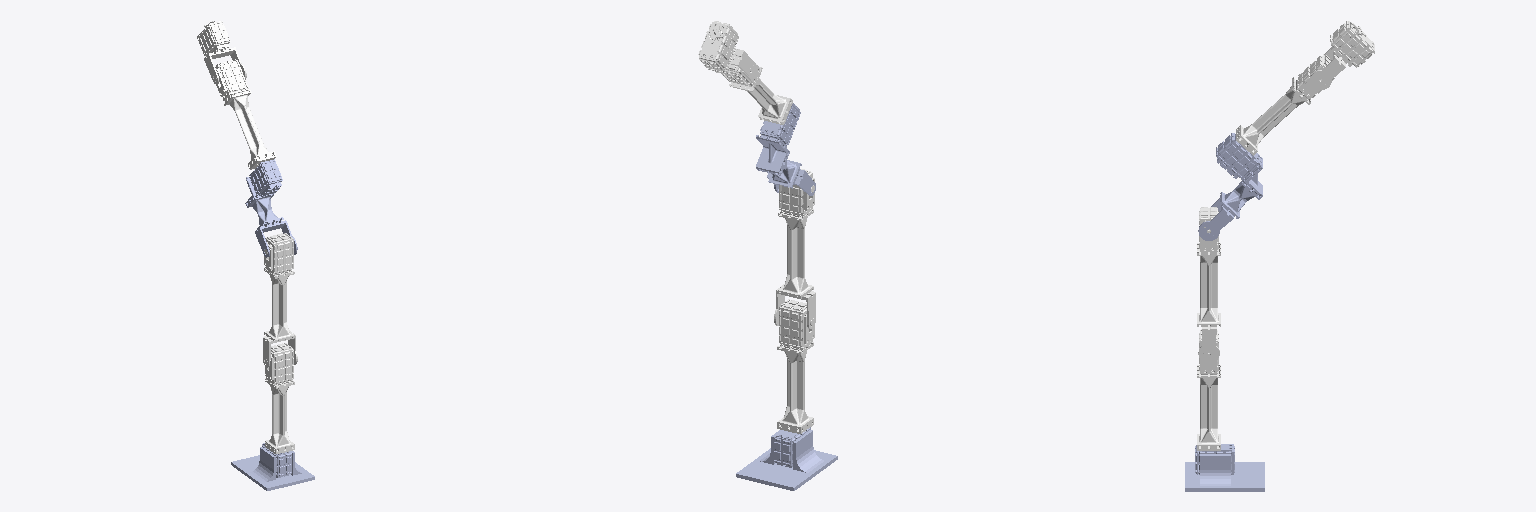
robot.urdf — IRB120_URDF_v2:
<robot
  name="IRB120_URDF_v2">

<link name="world"/>
  <joint name="world-base_link-fixed" type="fixed">
    <parent link="world"/>
    <child link="base_link"/>
  </joint>

  <link
    name="base_link">
    <inertial>
      <origin
        xyz="0.000506829635586531 0.0164502533862307 0.0190436684467408"
        rpy="0 0 0" />
      <mass
        value="0.186710038823954" />
      <inertia
        ixx="0.000206749385902935"
        ixy="2.65903225922209E-07"
        ixz="-6.42188067979825E-07"
        iyy="0.000142370123394231"
        iyz="-1.88688437962842E-05"
        izz="0.000237642416130309" />
    </inertial>
    <visual>
      <origin
        xyz="0 0 0"
        rpy="0 0 0" />
      <geometry>
        <mesh
          filename="package://abb_irb_120_description/urdf/meshes_irb_120_grande/base_link.STL" />
      </geometry>
      <material
        name="">
        <color
          rgba="0.792156862745098 0.819607843137255 0.933333333333333 1" />
      </material>
    </visual>
    <collision>
      <origin
        xyz="0 0 0"
        rpy="0 0 0" />
      <geometry>
        <mesh
          filename="package://abb_irb_120_description/urdf/meshes_irb_120_grande/base_link.STL" />
      </geometry>
    </collision>
  </link>
  <link
    name="link_1">
    <inertial>
      <origin
        xyz="0.000101483490267508 -0.00014611402597127 0.123194805129936"
        rpy="0 0 0" />
      <mass
        value="0.13638834098729" />
      <inertia
        ixx="0.000566240771092216"
        ixy="1.69586492496761E-07"
        ixz="3.91940337671747E-07"
        iyy="0.000571596904478103"
        iyz="-9.71926251557855E-07"
        izz="2.69322962790034E-05" />
    </inertial>
    <visual>
      <origin
        xyz="0 0 0"
        rpy="0 0 0" />
      <geometry>
        <mesh
          filename="package://abb_irb_120_description/urdf/meshes_irb_120_grande/link_1.STL" />
      </geometry>
      <material
        name="">
        <color
          rgba="1 1 1 1" />
      </material>
    </visual>
    <collision>
      <origin
        xyz="0 0 0"
        rpy="0 0 0" />
      <geometry>
        <mesh
          filename="package://abb_irb_120_description/urdf/meshes_irb_120_grande/link_1.STL" />
      </geometry>
    </collision>
  </link>
  <joint
    name="joint_1"
    type="revolute">
    <origin
      xyz="0 0 0.0544"
      rpy="0 0 0" />
    <parent
      link="base_link" />
    <child
      link="link_1" />
    <axis
      xyz="0 0 -1" />
    <limit
      lower="-2"
      upper="2"
      effort="20"
      velocity="20" />
  </joint>
  <link
    name="link_2">
    <inertial>
      <origin
        xyz="-0.000135356006400576 -0.000143592744303343 0.154185327275859"
        rpy="0 0 0" />
      <mass
        value="0.14159893330227" />
      <inertia
        ixx="0.000701238216467739"
        ixy="1.75871749259131E-07"
        ixz="-6.61089290610882E-06"
        iyy="0.000712581851390796"
        iyz="-1.0951072055554E-06"
        izz="3.2319132579535E-05" />
    </inertial>
    <visual>
      <origin
        xyz="0 0 0"
        rpy="0 0 0" />
      <geometry>
        <mesh
          filename="package://abb_irb_120_description/urdf/meshes_irb_120_grande/link_2.STL" />
      </geometry>
      <material
        name="">
        <color
          rgba="1 1 1 1" />
      </material>
    </visual>
    <collision>
      <origin
        xyz="0 0 0"
        rpy="0 0 0" />
      <geometry>
        <mesh
          filename="package://abb_irb_120_description/urdf/meshes_irb_120_grande/link_2.STL" />
      </geometry>
    </collision>
  </link>
  <joint
    name="joint_2"
    type="revolute">
    <origin
      xyz="0 0 0.18176"
      rpy="0 0 0" />
    <parent
      link="link_1" />
    <child
      link="link_2" />
    <axis
      xyz="-1 0 0" />
    <limit
      lower="-2"
      upper="2"
      effort="20"
      velocity="20" />
  </joint>
  <link
    name="link_3">
    <inertial>
      <origin
        xyz="-0.000795950611778533 -0.0294773138357475 0.0972250924706395"
        rpy="0 0 0" />
      <mass
        value="0.137043250968313" />
      <inertia
        ixx="0.000268451624758152"
        ixy="4.47314417387309E-07"
        ixz="-2.49107925354914E-06"
        iyy="0.000168086695951985"
        iyz="-8.78469683582677E-05"
        izz="0.00013394251957468" />
    </inertial>
    <visual>
      <origin
        xyz="0 0 0"
        rpy="0 0 0" />
      <geometry>
        <mesh
          filename="package://abb_irb_120_description/urdf/meshes_irb_120_grande/link_3.STL" />
      </geometry>
      <material
        name="">
        <color
          rgba="0.792156862745098 0.819607843137255 0.933333333333333 1" />
      </material>
    </visual>
    <collision>
      <origin
        xyz="0 0 0"
        rpy="0 0 0" />
      <geometry>
        <mesh
          filename="package://abb_irb_120_description/urdf/meshes_irb_120_grande/link_3.STL" />
      </geometry>
    </collision>
  </link>
  <joint
    name="joint_3"
    type="revolute">
    <origin
      xyz="0 0 0.21892"
      rpy="-0.7854 0 0" />
    <parent
      link="link_2" />
    <child
      link="link_3" />
    <axis
      xyz="-1 0 0" />
    <limit
      lower="-2"
      upper="2"
      effort="20"
      velocity="20" />
  </joint>
  <link
    name="link_4">
    <inertial>
      <origin
        xyz="0.000101756551848356 -0.000146509192858746 0.142094366745814"
        rpy="0 0 0" />
      <mass
        value="0.136022178444888" />
      <inertia
        ixx="0.000554019952123094"
        ixy="1.69591906695947E-07"
        ixz="3.84212892361328E-07"
        iyy="0.000559373340712624"
        iyz="-9.60742545726795E-07"
        izz="2.69043198091941E-05" />
    </inertial>
    <visual>
      <origin
        xyz="0 0 0"
        rpy="0 0 0" />
      <geometry>
        <mesh
          filename="package://abb_irb_120_description/urdf/meshes_irb_120_grande/link_4.STL" />
      </geometry>
      <material
        name="">
        <color
          rgba="1 1 1 1" />
      </material>
    </visual>
    <collision>
      <origin
        xyz="0 0 0"
        rpy="0 0 0" />
      <geometry>
        <mesh
          filename="package://abb_irb_120_description/urdf/meshes_irb_120_grande/link_4.STL" />
      </geometry>
    </collision>
  </link>
  <joint
    name="joint_4"
    type="revolute">
    <origin
      xyz="-0.0011116 -0.062605 0.11982"
      rpy="-1.0936E-14 -4.7184E-15 -4.7184E-15" />
    <parent
      link="link_3" />
    <child
      link="link_4" />
    <axis
      xyz="0 0 -1" />
    <limit
      lower="-2"
      upper="2"
      effort="20"
      velocity="20" />
  </joint>
  <link
    name="link_5">
    <inertial>
      <origin
        xyz="-0.000663369816313716 0.000137179485501793 0.0656968013933179"
        rpy="0 0 0" />
      <mass
        value="0.0880136991441959" />
      <inertia
        ixx="6.53471799788238E-05"
        ixy="3.16251104150344E-08"
        ixz="-3.61285145594892E-06"
        iyy="5.39730805138255E-05"
        iyz="1.69570004687093E-07"
        izz="3.72211681063045E-05" />
    </inertial>
    <visual>
      <origin
        xyz="0 0 0"
        rpy="0 0 0" />
      <geometry>
        <mesh
          filename="package://abb_irb_120_description/urdf/meshes_irb_120_grande/link_5.STL" />
      </geometry>
      <material
        name="">
        <color
          rgba="1 1 1 1" />
      </material>
    </visual>
    <collision>
      <origin
        xyz="0 0 0"
        rpy="0 0 0" />
      <geometry>
        <mesh
          filename="package://abb_irb_120_description/urdf/meshes_irb_120_grande/link_5.STL" />
      </geometry>
    </collision>
  </link>
  <joint
    name="joint_5"
    type="revolute">
    <origin
      xyz="0 0 0.2001"
      rpy="-7.1054E-15 6.9996E-15 6.9996E-15" />
    <parent
      link="link_4" />
    <child
      link="link_5" />
    <axis
      xyz="-1 0 0" />
    <limit
      lower="-2"
      upper="2"
      effort="20"
      velocity="20" />
  </joint>
  <link
    name="link_6">
    <inertial>
      <origin
        xyz="2.41409294178194E-08 -2.20412191942465E-07 0.0187484882172921"
        rpy="0 0 0" />
      <mass
        value="0.000728753606573652" />
      <inertia
        ixx="2.7112691145136E-08"
        ixy="1.73396101879255E-11"
        ixz="2.38573513059539E-14"
        iyy="2.24283727449418E-08"
        iyz="-2.17065591899303E-13"
        izz="4.80923768776333E-08" />
    </inertial>
    <visual>
      <origin
        xyz="0 0 0"
        rpy="0 0 0" />
      <geometry>
        <mesh
          filename="package://abb_irb_120_description/urdf/meshes_irb_120_grande/link_6.STL" />
      </geometry>
      <material
        name="">
        <color
          rgba="1 1 1 1" />
      </material>
    </visual>
    <collision>
      <origin
        xyz="0 0 0"
        rpy="0 0 0" />
      <geometry>
        <mesh
          filename="package://abb_irb_120_description/urdf/meshes_irb_120_grande/link_6.STL" />
      </geometry>
    </collision>
  </link>
  <joint
    name="joint_6"
    type="revolute">
    <origin
      xyz="-0.0015 -0.010003 0.079246"
      rpy="0 0 3.9443E-31" />
    <parent
      link="link_5" />
    <child
      link="link_6" />
    <axis
      xyz="0 0 -1" />
    <limit
      lower="-2"
      upper="2"
      effort="20"
      velocity="20" />
  </joint>

  <transmission name="tran1">
    <type>transmission_interface/SimpleTransmission</type>
    <joint name="joint_1">
      <hardwareInterface>PositionJointInterface</hardwareInterface>
    </joint>
    <actuator name="motor1">
      <mechanicalReduction>1</mechanicalReduction>
    </actuator>
  </transmission>
  <transmission name="tran2">
    <type>transmission_interface/SimpleTransmission</type>
    <joint name="joint_2">
      <hardwareInterface>PositionJointInterface</hardwareInterface>
    </joint>
    <actuator name="motor2">
      <mechanicalReduction>1</mechanicalReduction>
    </actuator>
  </transmission>
  <transmission name="tran3">
    <type>transmission_interface/SimpleTransmission</type>
    <joint name="joint_3">
      <hardwareInterface>PositionJointInterface</hardwareInterface>
    </joint>
    <actuator name="motor3">
      <mechanicalReduction>1</mechanicalReduction>
    </actuator>
  </transmission>
  <transmission name="tran4">
    <type>transmission_interface/SimpleTransmission</type>
    <joint name="joint_4">
      <hardwareInterface>PositionJointInterface</hardwareInterface>
    </joint>
    <actuator name="motor4">
      <mechanicalReduction>1</mechanicalReduction>
    </actuator>
  </transmission>
  <transmission name="tran5">
    <type>transmission_interface/SimpleTransmission</type>
    <joint name="joint_5">
      <hardwareInterface>PositionJointInterface</hardwareInterface>
    </joint>
    <actuator name="motor5">
      <mechanicalReduction>1</mechanicalReduction>
    </actuator>
  </transmission>
  <transmission name="tran6">
    <type>transmission_interface/SimpleTransmission</type>
    <joint name="joint_6">
      <hardwareInterface>PositionJointInterface</hardwareInterface>
    </joint>
    <actuator name="motor6">
      <mechanicalReduction>1</mechanicalReduction>
    </actuator>
  </transmission>
  <!-- end of transmission list -->

  <!-- Gazebo-specific link properties -->
  <gazebo reference="base_link">
    <material>Gazebo/Orange</material>
    <turnGravityOff>true</turnGravityOff>
  </gazebo>
  <gazebo reference="link_1">
    <material>Gazebo/Orange</material>
    <turnGravityOff>true</turnGravityOff>
  </gazebo>
  <gazebo reference="link_2">
    <material>Gazebo/Orange</material>
    <turnGravityOff>true</turnGravityOff>
  </gazebo>  
  <gazebo reference="link_3">
    <material>Gazebo/Orange</material>
    <turnGravityOff>true</turnGravityOff>
  </gazebo>
  <gazebo reference="link_4">
    <material>Gazebo/Orange</material>
    <turnGravityOff>true</turnGravityOff>
  </gazebo>
  <gazebo reference="link_5">
    <material>Gazebo/Orange</material>
    <turnGravityOff>true</turnGravityOff>
  </gazebo>
  <gazebo reference="link_6">
    <material>Gazebo/Black</material>
    <turnGravityOff>true</turnGravityOff>
  </gazebo>

  <!-- ros_control plugin -->
  <gazebo>
    <plugin name="gazebo_ros_control" filename="libgazebo_ros_control.so">
      <robotNamespace>/</robotNamespace>
      <robotSimType>gazebo_ros_control/DefaultRobotHWSim</robotSimType>
    </plugin>
  </gazebo>  
</robot>

--- What the picture shows (computed from the rendered views, not written in the file) ---
The picture shows the robot from 3 angles, left to right: view 1: azimuth 30°, elevation 25°; view 2: azimuth 150°, elevation 25°; view 3: azimuth 270°, elevation 25°; orthographic projection.
Robot: IRB120_URDF_v2 — 8 links, 7 joints (6 revolute, 1 fixed); root link world; default pose: all joints at 0.
Links seen in each view (by area): view 1: link_2, link_4, link_1, base_link, link_3, link_5; view 2: base_link, link_1, link_2, link_3, link_4, link_5; view 3: base_link, link_3, link_2, link_4, link_5, link_1.
Link boxes in pixels (bbox=[...]): link_2: bbox=[263, 233, 297, 367]; link_4: bbox=[213, 59, 276, 169]; link_1: bbox=[265, 343, 294, 453]; base_link: bbox=[231, 443, 314, 490]; link_3: bbox=[245, 159, 297, 257]; link_5: bbox=[197, 21, 246, 83]; base_link: bbox=[736, 427, 837, 490]; link_1: bbox=[777, 299, 814, 433]; link_2: bbox=[774, 169, 815, 328]; link_3: bbox=[756, 103, 815, 195]; link_4: bbox=[721, 60, 792, 124]; link_5: bbox=[698, 21, 754, 75]; base_link: bbox=[1185, 444, 1264, 491]; link_3: bbox=[1198, 133, 1262, 240]; link_2: bbox=[1197, 207, 1220, 362]; link_4: bbox=[1236, 54, 1335, 155]; link_5: bbox=[1310, 21, 1374, 89]; link_1: bbox=[1197, 329, 1220, 450].
Bounding box of the posed robot: 0.1 × 0.3096 × 0.8138 m (x, y, z).
Meshes: 7 distinct files referenced, 7 mesh visuals loaded (7 binary STL).